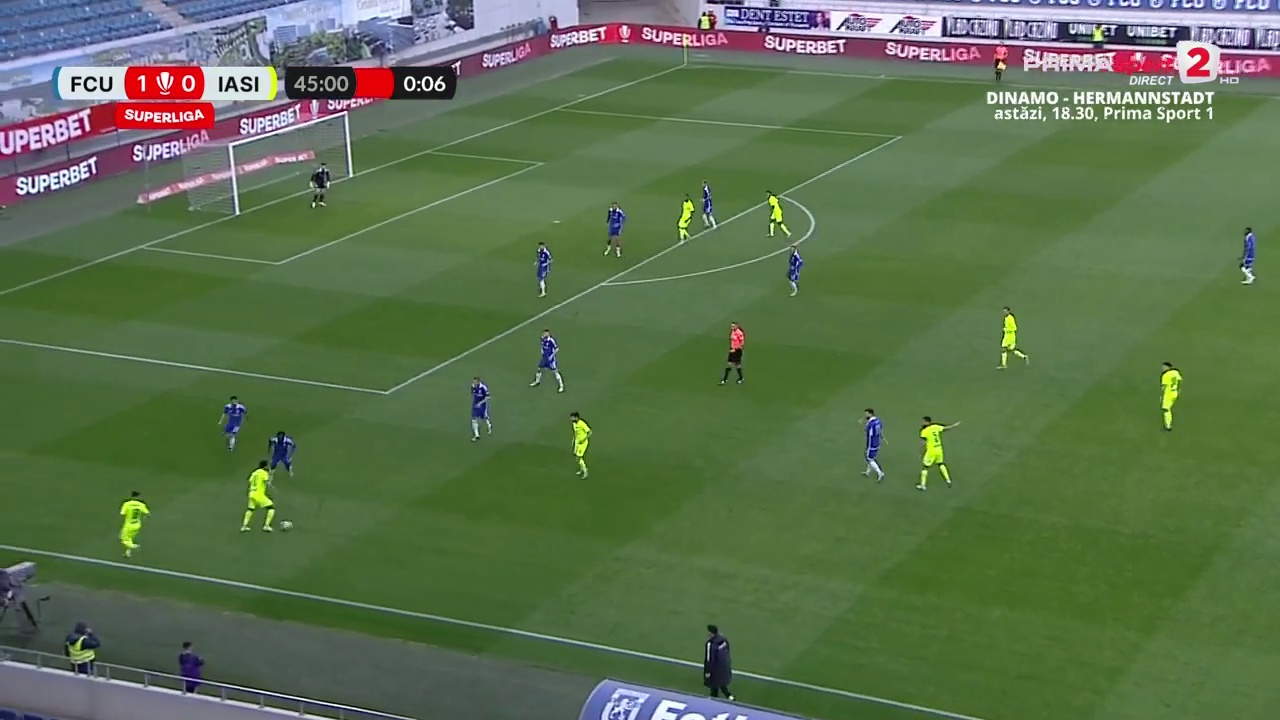ball: (257, 528, 283, 554)
